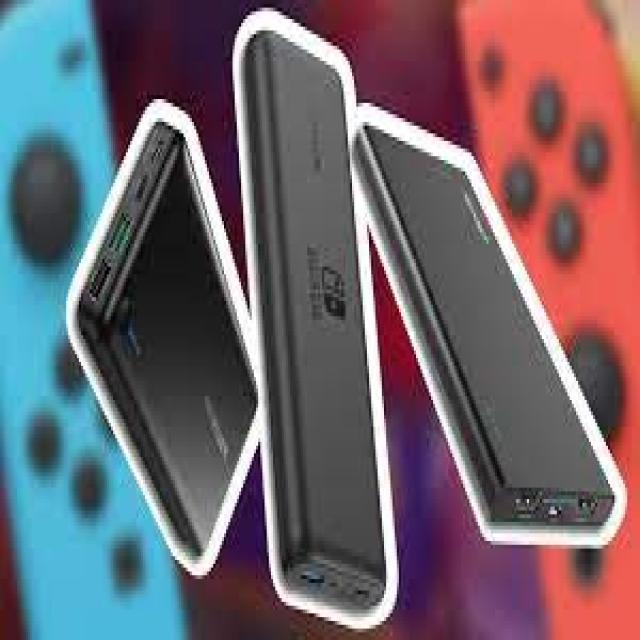power_bank: (354, 107, 621, 552), (66, 103, 265, 583), (235, 23, 388, 621)
